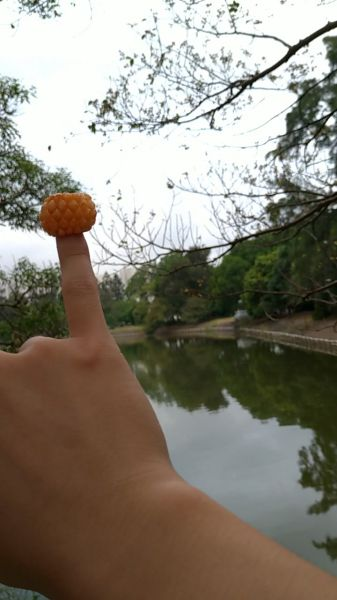eggs: (42, 192, 96, 235)
